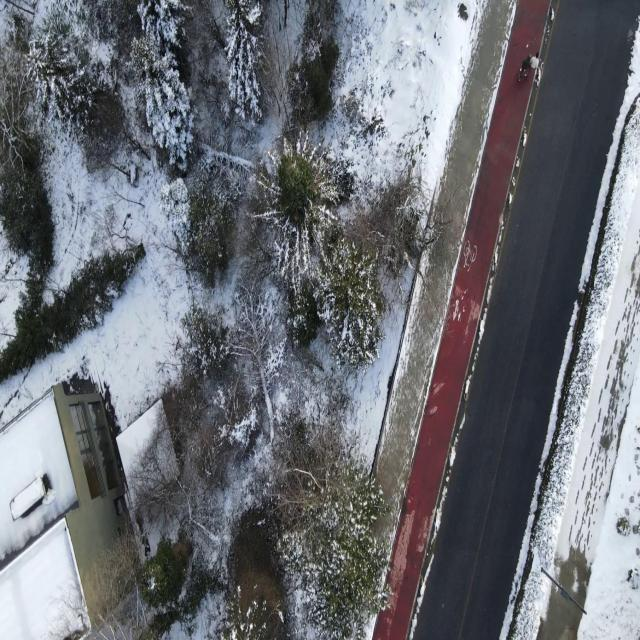p3rson: (518, 54, 531, 81), (527, 52, 539, 79)
